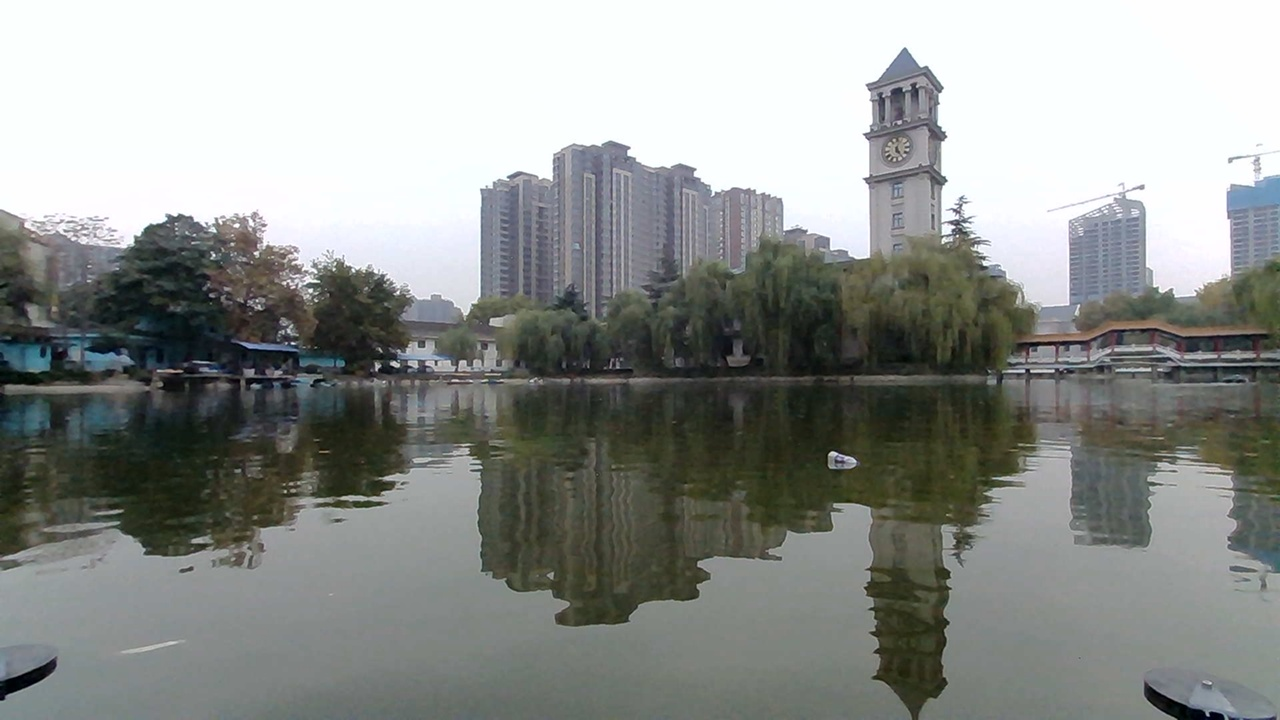bottle: (820, 444, 859, 474)
